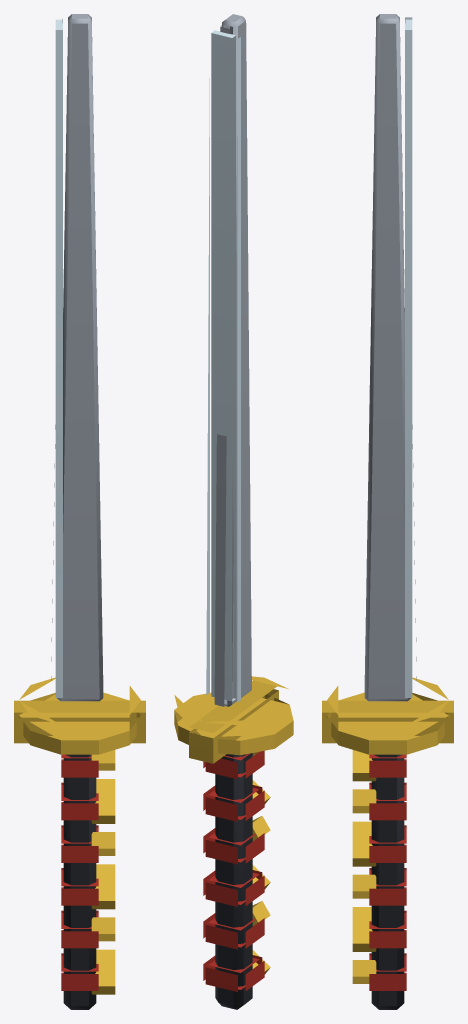
The model's file is item_katana.glb.
3 views of the same model, side by side, from view 1: azimuth 90°, elevation 25°; view 2: azimuth 150°, elevation 25°; view 3: azimuth 270°, elevation 25° (orthographic).
Visible parts, largest first — view 1: item_katana, item_katana_detail; view 2: item_katana, item_katana_detail; view 3: item_katana, item_katana_detail.
Boxes of the visible parts, x1,y1,x2,y2 form: item_katana: (14,14,145,1009); item_katana_detail: (18,677,141,994); item_katana: (189,14,278,1009); item_katana_detail: (174,676,293,974); item_katana: (322,14,453,1009); item_katana_detail: (326,677,449,983).
Bounding box in the file's own units: 0.1236 × 1.16 × 0.14.
